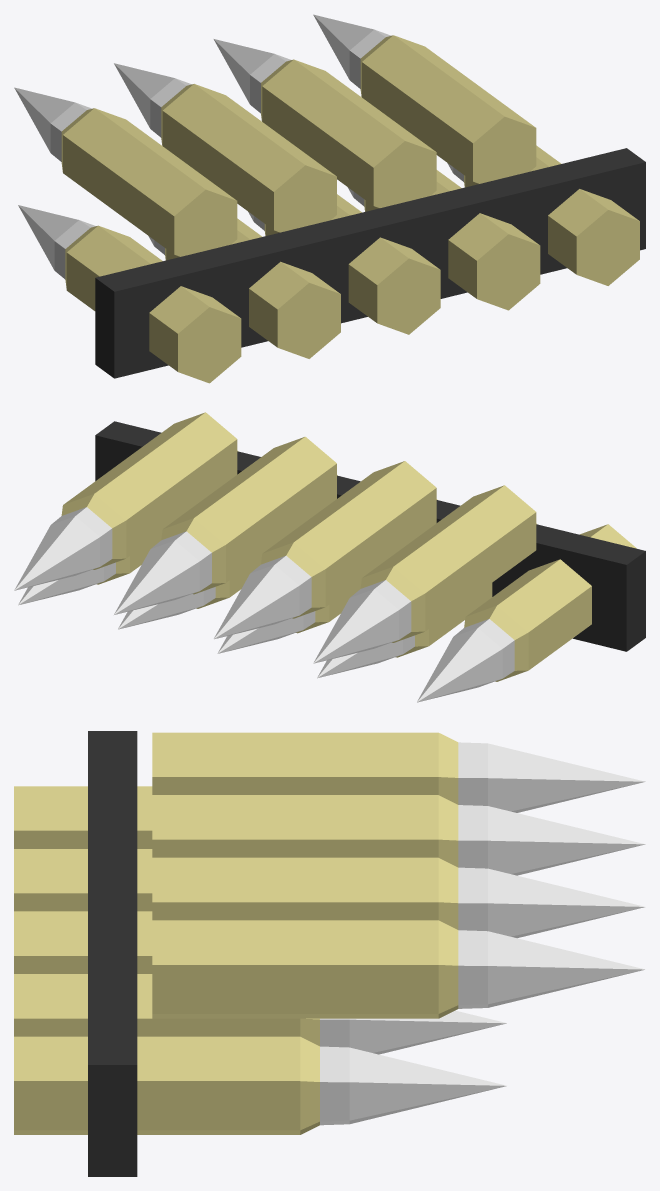
Rendered from ce_ammo_highcal_ap_b.obj.
3 renders of one model, top to bottom at view 1: azimuth 30°, elevation 25°; view 2: azimuth 150°, elevation 25°; view 3: azimuth 270°, elevation 25°, orthographic. The views are drawn at different scales.
Parts seen in each view (by area): view 1: ce_ammo_highcal_ap_b_36, ce_ammo_highcal_ap_b_20, ce_ammo_highcal_ap_b_32, ce_ammo_highcal_ap_b_28, ce_ammo_highcal_ap_b_24, ce_ammo_highcal_ap_b_0, ce_ammo_highcal_ap_b_12, ce_ammo_highcal_ap_b_8, ce_ammo_highcal_ap_b_4, ce_ammo_highcal_ap_b_16, ce_ammo_highcal_ap_b_27, ce_ammo_highcal_ap_b_3 (+8 smaller); view 2: ce_ammo_highcal_ap_b_36, ce_ammo_highcal_ap_b_20, ce_ammo_highcal_ap_b_24, ce_ammo_highcal_ap_b_32, ce_ammo_highcal_ap_b_28, ce_ammo_highcal_ap_b_0, ce_ammo_highcal_ap_b_27, ce_ammo_highcal_ap_b_3, ce_ammo_highcal_ap_b_31, ce_ammo_highcal_ap_b_35, ce_ammo_highcal_ap_b_23, ce_ammo_highcal_ap_b_21 (+17 smaller); view 3: ce_ammo_highcal_ap_b_32, ce_ammo_highcal_ap_b_16, ce_ammo_highcal_ap_b_36, ce_ammo_highcal_ap_b_28, ce_ammo_highcal_ap_b_20, ce_ammo_highcal_ap_b_24, ce_ammo_highcal_ap_b_12, ce_ammo_highcal_ap_b_19, ce_ammo_highcal_ap_b_35, ce_ammo_highcal_ap_b_31, ce_ammo_highcal_ap_b_27, ce_ammo_highcal_ap_b_23 (+15 smaller).
Part boxes in pixels (x1=…): ce_ammo_highcal_ap_b_36: x1=95, y1=148, x2=645, y2=378; ce_ammo_highcal_ap_b_20: x1=63, y1=108, x2=237, y2=256; ce_ammo_highcal_ap_b_32: x1=362, y1=35, x2=536, y2=183; ce_ammo_highcal_ap_b_28: x1=262, y1=59, x2=436, y2=207; ce_ammo_highcal_ap_b_24: x1=162, y1=84, x2=336, y2=232; ce_ammo_highcal_ap_b_0: x1=66, y1=225, x2=241, y2=383; ce_ammo_highcal_ap_b_12: x1=365, y1=170, x2=540, y2=310; ce_ammo_highcal_ap_b_8: x1=266, y1=194, x2=440, y2=334; ce_ammo_highcal_ap_b_4: x1=166, y1=218, x2=340, y2=358; ce_ammo_highcal_ap_b_16: x1=465, y1=145, x2=639, y2=285; ce_ammo_highcal_ap_b_27: x1=114, y1=63, x2=174, y2=128; ce_ammo_highcal_ap_b_3: x1=18, y1=205, x2=78, y2=270; ce_ammo_highcal_ap_b_36: x1=95, y1=421, x2=645, y2=651; ce_ammo_highcal_ap_b_20: x1=363, y1=485, x2=536, y2=631; ce_ammo_highcal_ap_b_24: x1=263, y1=461, x2=436, y2=606; ce_ammo_highcal_ap_b_32: x1=63, y1=412, x2=237, y2=558; ce_ammo_highcal_ap_b_28: x1=163, y1=436, x2=336, y2=582; ce_ammo_highcal_ap_b_0: x1=466, y1=524, x2=636, y2=670; ce_ammo_highcal_ap_b_27: x1=214, y1=565, x2=299, y2=639; ce_ammo_highcal_ap_b_3: x1=417, y1=628, x2=502, y2=702; ce_ammo_highcal_ap_b_31: x1=114, y1=540, x2=199, y2=614; ce_ammo_highcal_ap_b_35: x1=14, y1=516, x2=99, y2=590; ce_ammo_highcal_ap_b_23: x1=313, y1=589, x2=398, y2=663; ce_ammo_highcal_ap_b_21: x1=360, y1=566, x2=425, y2=642; ce_ammo_highcal_ap_b_32: x1=152, y1=920, x2=438, y2=1018; ce_ammo_highcal_ap_b_16: x1=14, y1=1036, x2=300, y2=1134; ce_ammo_highcal_ap_b_36: x1=88, y1=731, x2=137, y2=1176; ce_ammo_highcal_ap_b_28: x1=152, y1=857, x2=438, y2=920; ce_ammo_highcal_ap_b_20: x1=152, y1=732, x2=438, y2=794; ce_ammo_highcal_ap_b_24: x1=152, y1=795, x2=438, y2=857; ce_ammo_highcal_ap_b_12: x1=14, y1=974, x2=300, y2=1036; ce_ammo_highcal_ap_b_19: x1=349, y1=1047, x2=506, y2=1123; ce_ammo_highcal_ap_b_35: x1=488, y1=931, x2=645, y2=1007; ce_ammo_highcal_ap_b_31: x1=488, y1=868, x2=644, y2=938; ce_ammo_highcal_ap_b_27: x1=488, y1=806, x2=645, y2=875; ce_ammo_highcal_ap_b_23: x1=488, y1=743, x2=645, y2=812.
Size of the model in its own units: 0.8 by 0.205 by 0.64.
